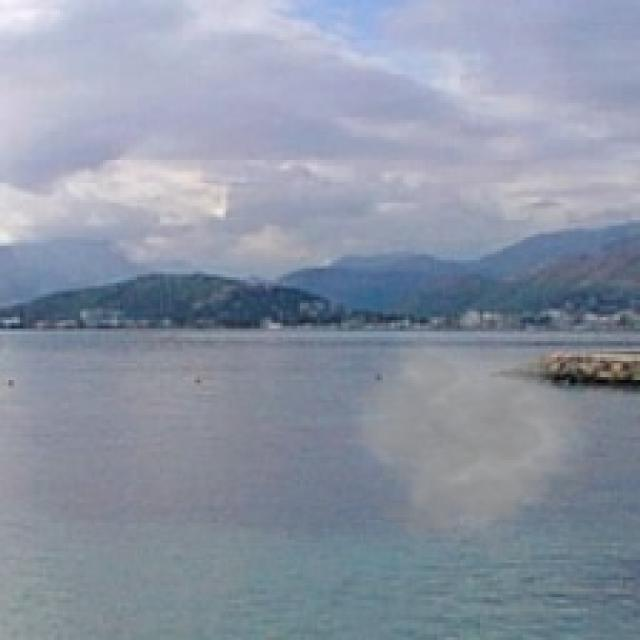smoke: (340, 332, 606, 554)
